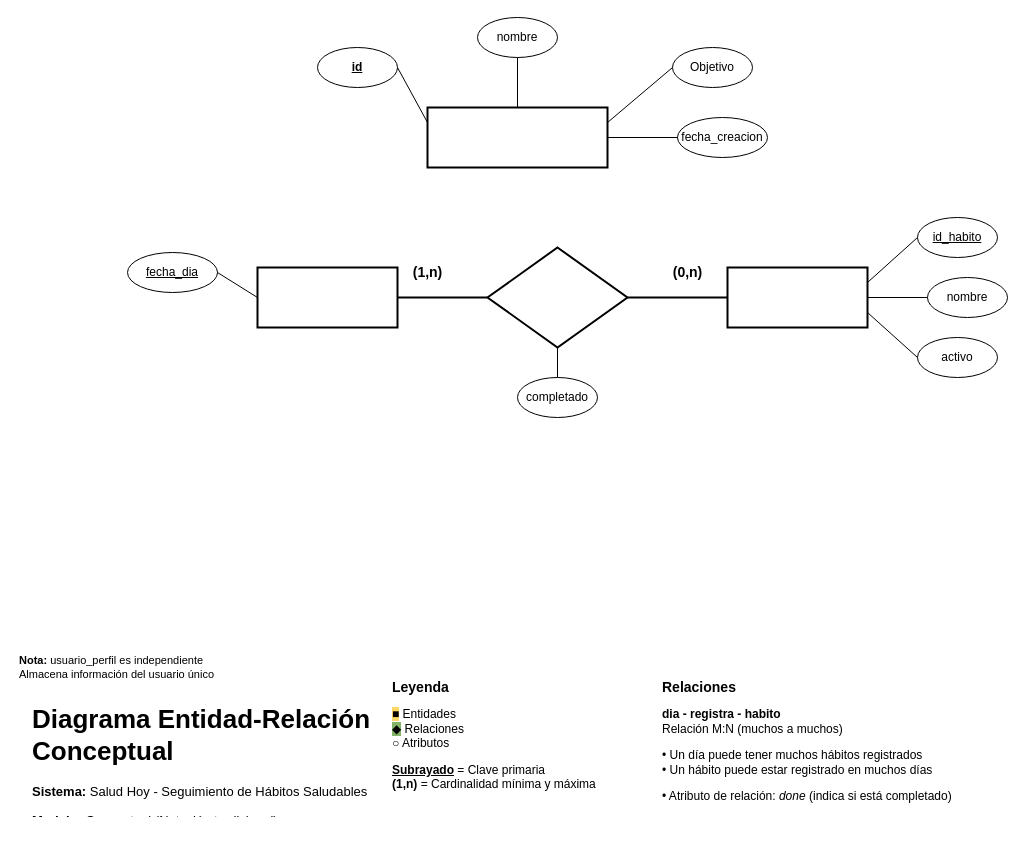
This 1025x844 diagram has some shape labels left out. The centre of each missing label's shape, as x and y in pixels:
dia: (327,297)
habito: (797,297)
registra: (557,297)
usuario_perfil: (517,137)
